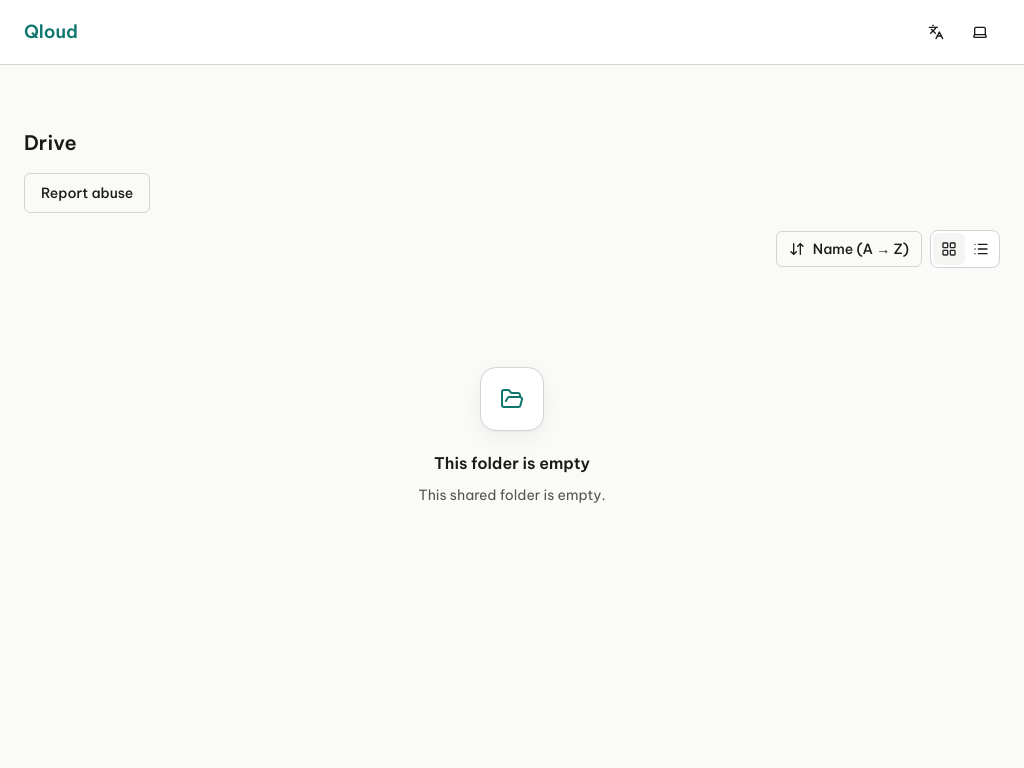
Test: maps report error 429 and permits retry
What coordinates should you click on to do the following:
click the button "Report abuse"
I would click on:
 (87, 193)
Its box is [24, 173, 150, 213].
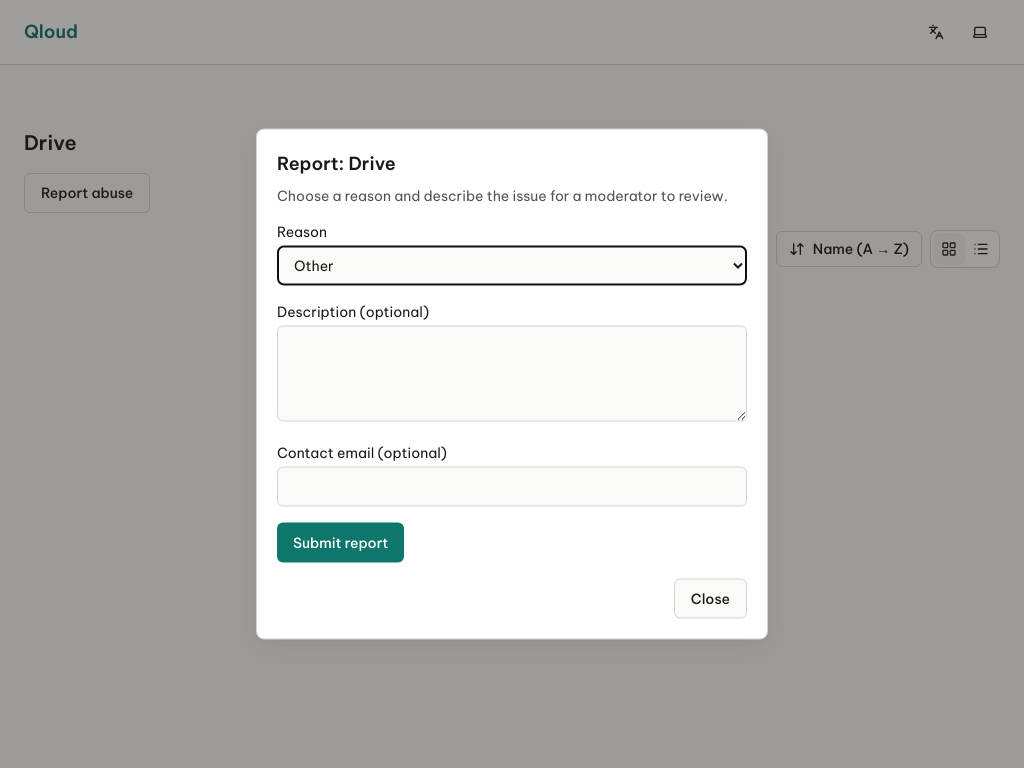
What coordinates should you click on to do the following:
click the button "Submit report"
I would click on:
 (341, 542)
Its box is [277, 522, 404, 562].
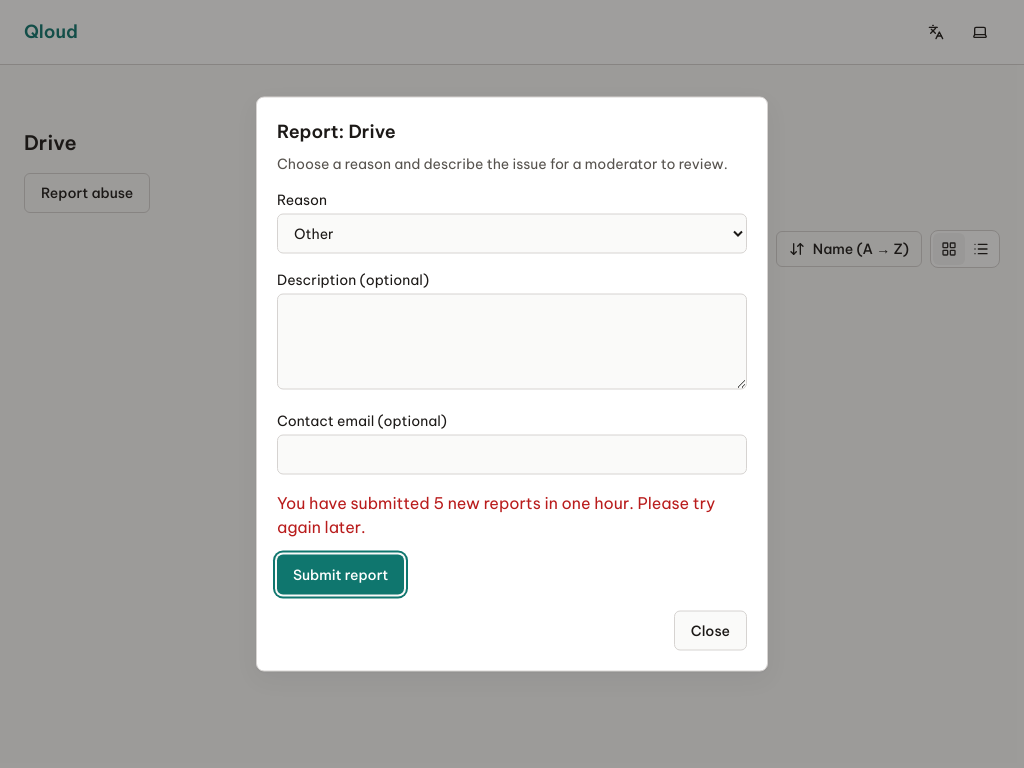
expect the button "Submit report" is enabled: met, box [277, 554, 404, 594]
expect the message shows "You have submitted 5 new reports": met, box [277, 492, 715, 536]
